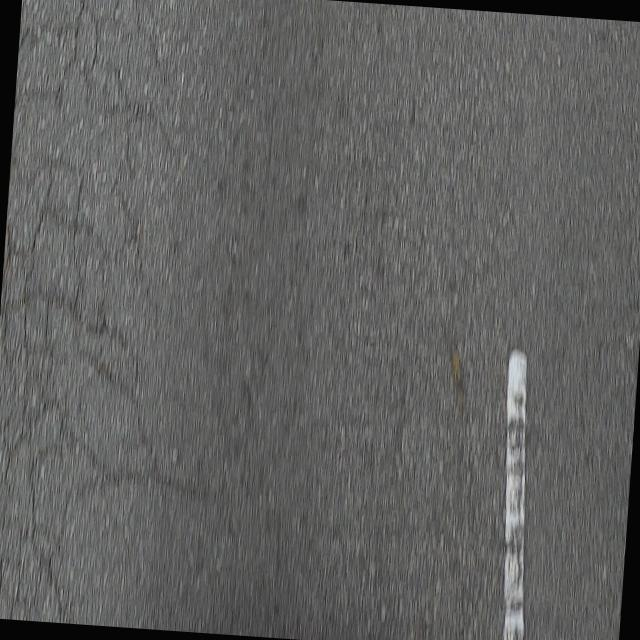Retak-Buaya: (0, 0, 149, 593)
